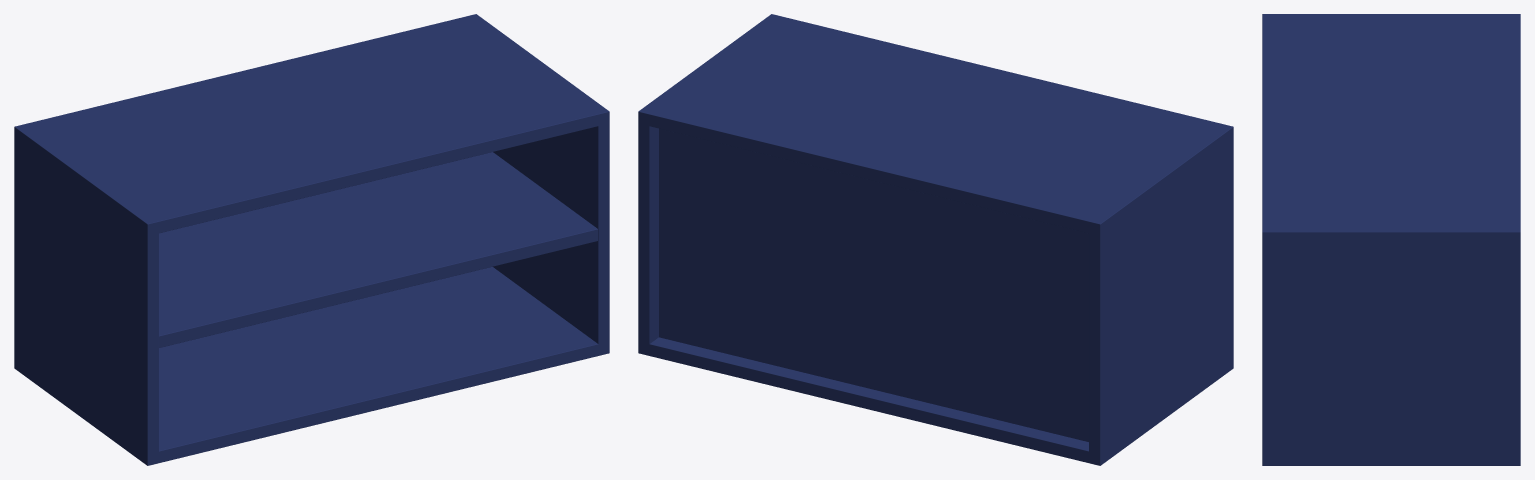
File: MOD_2X1_S_B_AF.glb
3 views of the same model, side by side, from view 1: azimuth 30°, elevation 25°; view 2: azimuth 150°, elevation 25°; view 3: azimuth 270°, elevation 25° (orthographic). The views are drawn at different scales.
Size of the model in its own units: 720 by 360 by 360.
